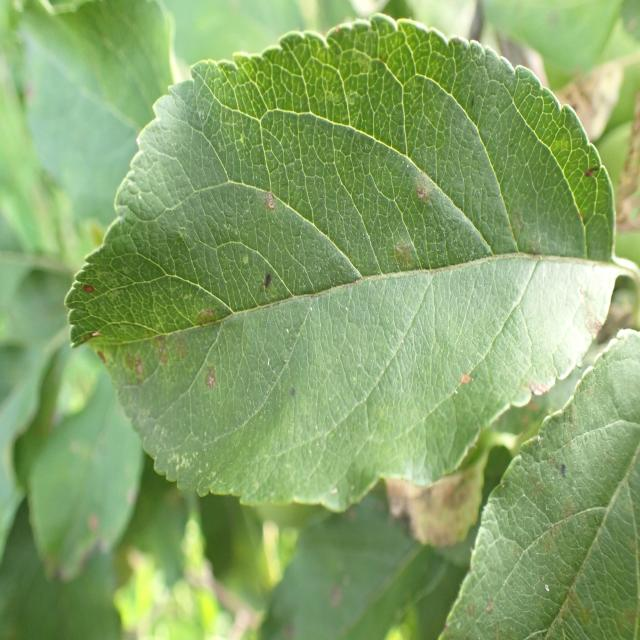frog-eye-leaf-spot: (64, 11, 617, 514)
